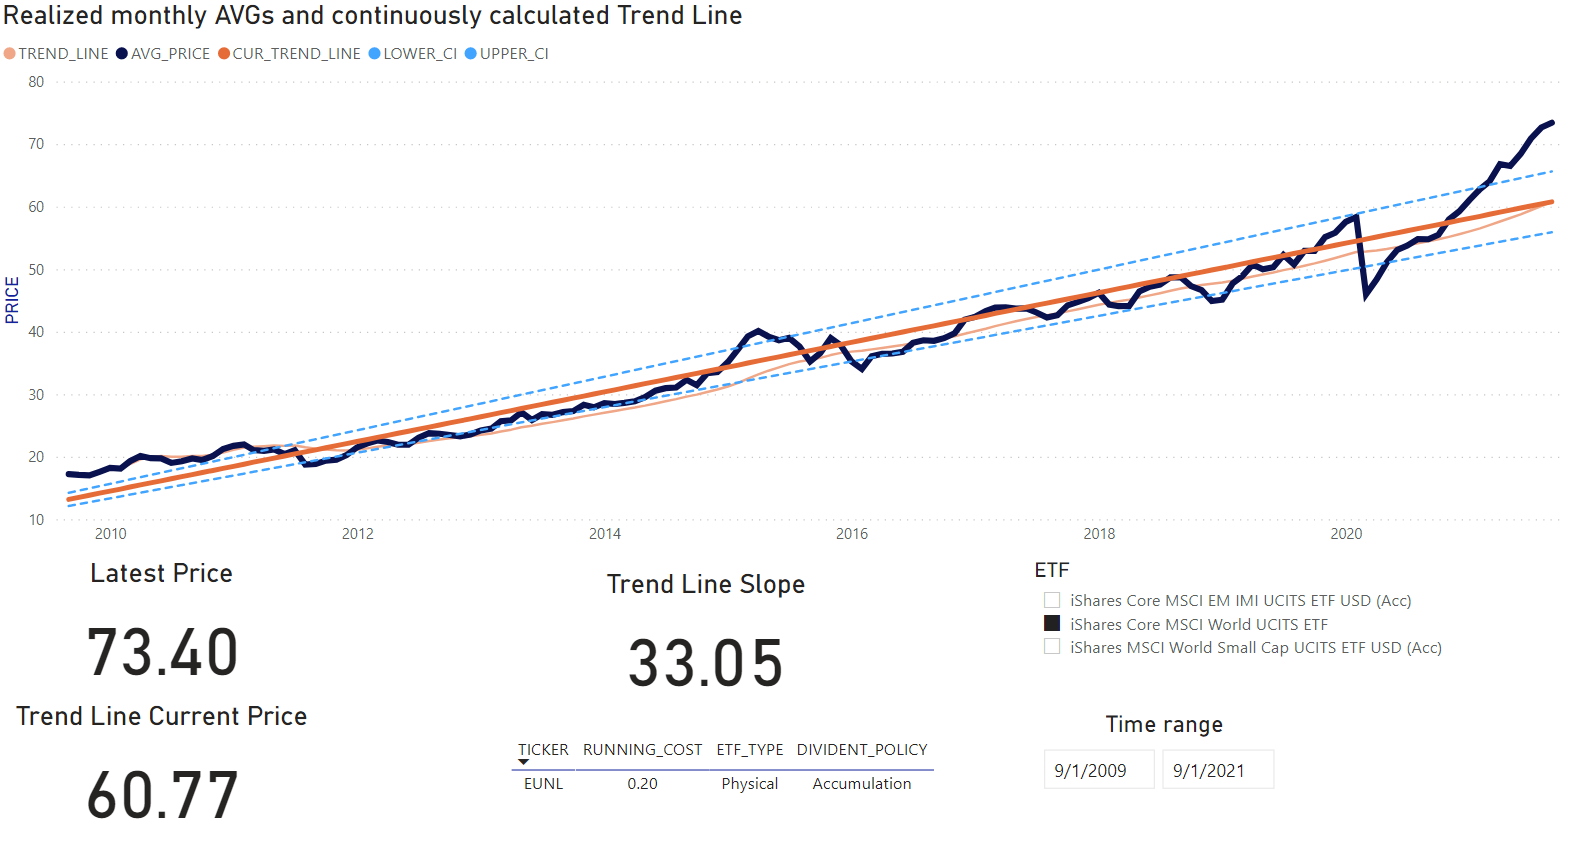

This screenshot's page, from the dashboard's own definition file:
{"tool":"powerbi","page":{"name":"GRAPHS","canvas":[1280,720],"ordinal":0},"visuals":[{"type":"lineChart","title":"Realized monthly AVGs and continuously calculated Trend Line","fields":{"Category":["NN_KK_MONTHLY_PRICES_WITH_TRENDS.MONTH"],"Y":["Sum(NN_KK_MONTHLY_PRICES_WITH_TRENDS.TREND_LINE)","Sum(NN_KK_MONTHLY_PRICES_WITH_TRENDS.AVG_PRICE)","Sum(NN_KK_MONTHLY_PRICES_WITH_TRENDS.CUR_TREND_LINE)","Sum(NN_KK_MONTHLY_PRICES_WITH_TRENDS.LOWER_CI)","Sum(NN_KK_MONTHLY_PRICES_WITH_TRENDS.UPPER_CI)"]},"box":[0,0,1280,452.5],"z":0},{"type":"card","title":"Latest Price","fields":{"Values":["Avg(NN_KK_LATEST_PRICE.CLOSE_PRICE)"]},"box":[0,452.5,268.6,116.1],"z":1000},{"type":"card","title":"Trend Line Slope","fields":{"Values":["Avg(NN_KK_TREND_LINE_VALUES.SLOPE)"]},"box":[442.3,461.3,267.8,115.7],"z":2000},{"type":"slicer","title":"ETF","fields":{"Values":["REF_TICKERS.FULL_NAME"]},"box":[837.2,452.5,442.8,150],"z":3000},{"type":"card","title":"Trend Line Current Price","fields":{"Values":["Avg(NN_KK_TREND_LINE_VALUES.CURRENT_PRICE)"]},"box":[0,568.6,268.6,116.1],"z":4000},{"type":"slicer","title":"Time range","fields":{"Values":["NN_KK_MONTHLY_PRICES_WITH_TRENDS.MONTH"]},"box":[837.4,577,221.5,99.2],"z":5000},{"type":"tableEx","fields":{"Values":["REF_TICKERS.TICKER","REF_TICKERS.RUNNING_COST","REF_TICKERS.ETF_TYPE","REF_TICKERS.DIVIDENT_POLICY"]},"box":[411.7,592.7,377.8,109.1],"z":6000}]}

Visuals, with their boxes in screenshot pixels (x1, y1, x2, y2), scaled from the page's 1280x720 canvas onto the 1570x868 screenshot:
"Realized monthly AVGs and continuously calculated Trend Line" lineChart: 0/0/1569/546
"Latest Price" card: 0/546/329/685
"Trend Line Slope" card: 543/556/871/696
"ETF" slicer: 1027/546/1569/726
"Trend Line Current Price" card: 0/685/329/825
"Time range" slicer: 1027/696/1299/815
tableEx - REF_TICKERS.TICKER x REF_TICKERS.RUNNING_COST: 505/715/968/846
